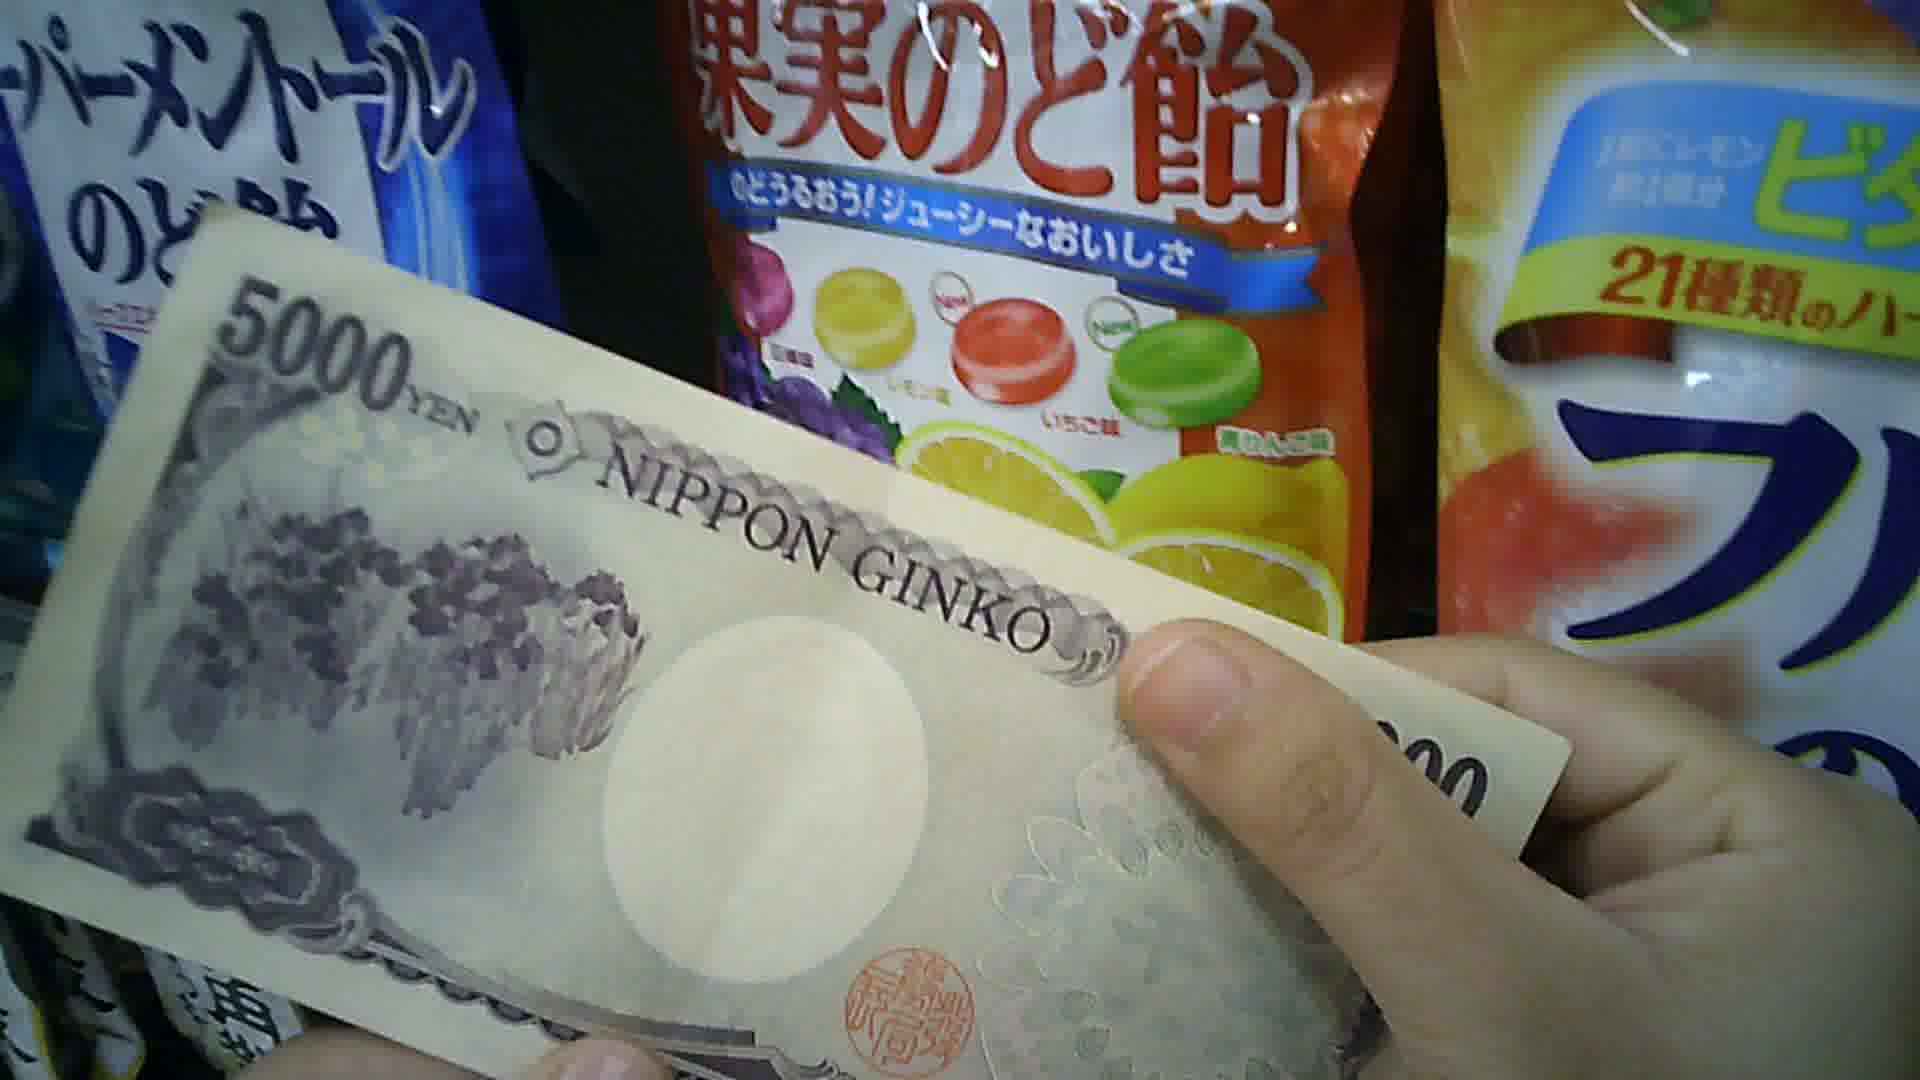5,000 Yen: (20, 210, 1542, 1065)
